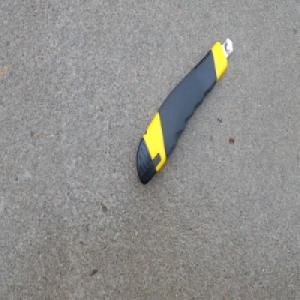Cutter: (136, 36, 233, 186)
